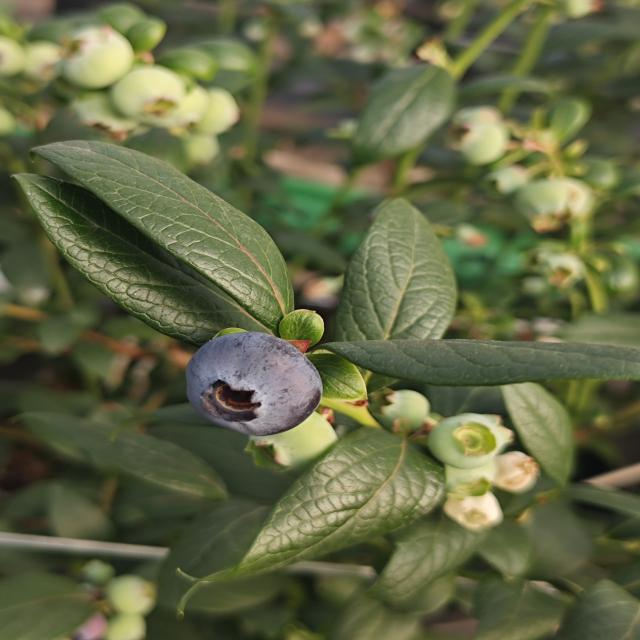ripe: (177, 325, 328, 449)
